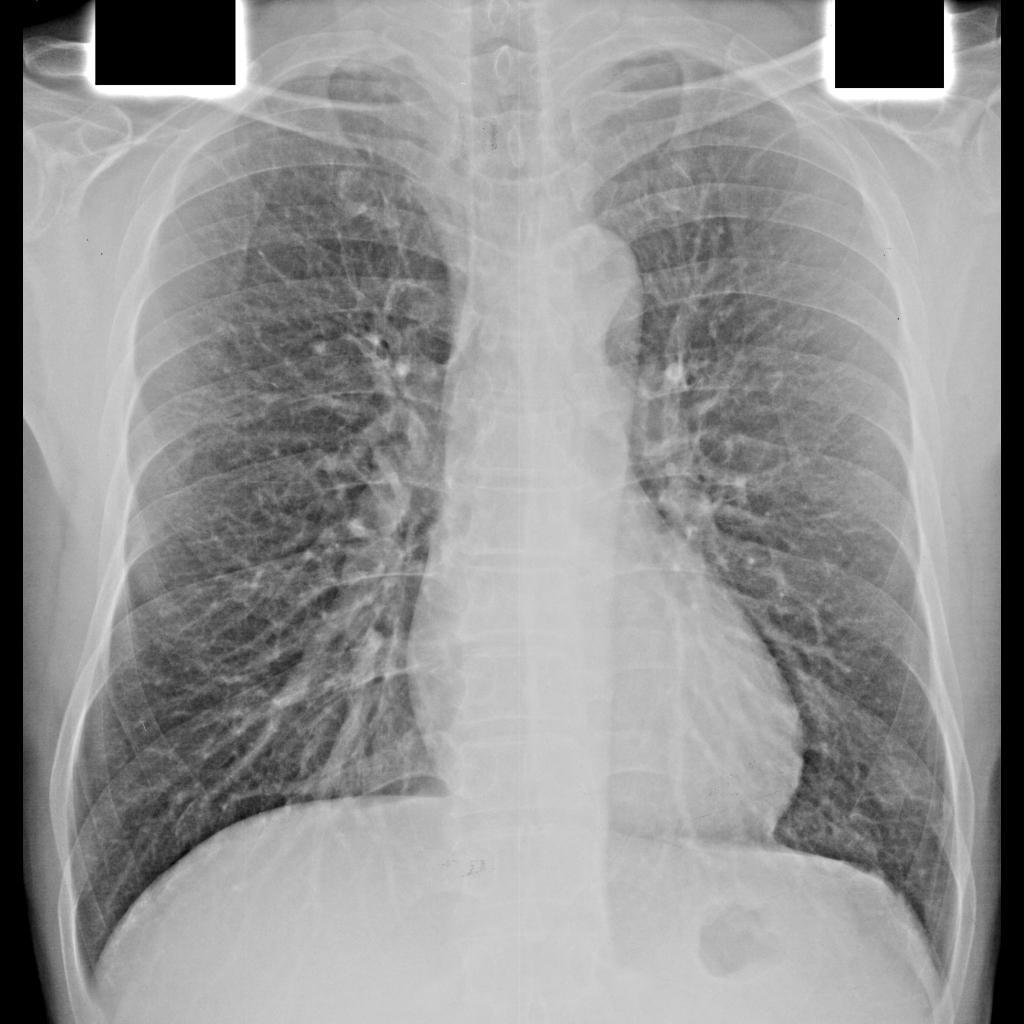Nodule: (865, 755, 921, 811)
